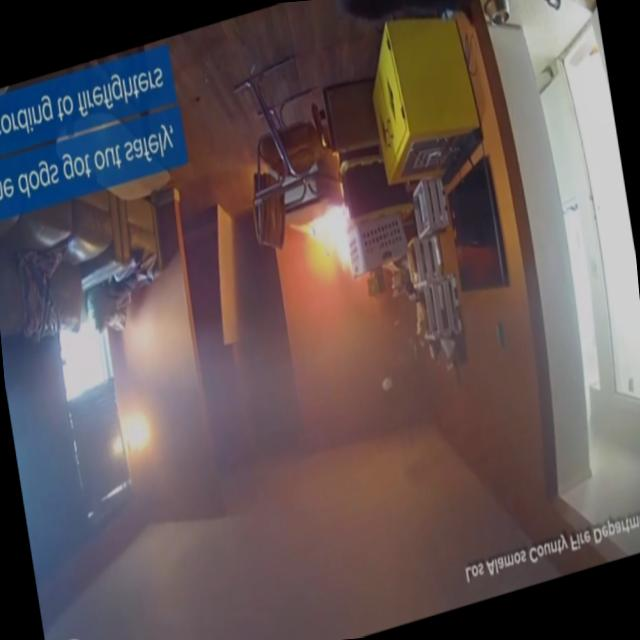fire: (283, 186, 368, 304)
